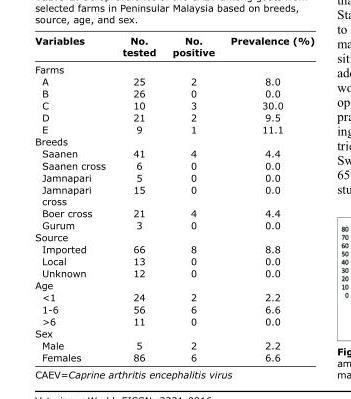table: (34, 34, 314, 362)
table column: (221, 34, 314, 362), (34, 34, 113, 362), (163, 34, 221, 362), (113, 34, 163, 362)
table column header: (34, 34, 314, 60)
table projected row header: (34, 60, 314, 74), (34, 134, 314, 146), (34, 230, 314, 242), (34, 278, 314, 290), (34, 326, 314, 338)
table row: (34, 34, 314, 60), (34, 182, 314, 206), (34, 60, 314, 74), (34, 74, 314, 86), (34, 86, 314, 98), (34, 98, 314, 110), (34, 110, 314, 122), (34, 122, 314, 134), (34, 134, 314, 146), (34, 146, 314, 158), (34, 158, 314, 170), (34, 170, 314, 182), (34, 206, 314, 218), (34, 218, 314, 230), (34, 230, 314, 242), (34, 242, 314, 254), (34, 254, 314, 266), (34, 266, 314, 278), (34, 278, 314, 290), (34, 290, 314, 302), (34, 302, 314, 314), (34, 314, 314, 326), (34, 326, 314, 338), (34, 338, 314, 350), (34, 350, 314, 362)
